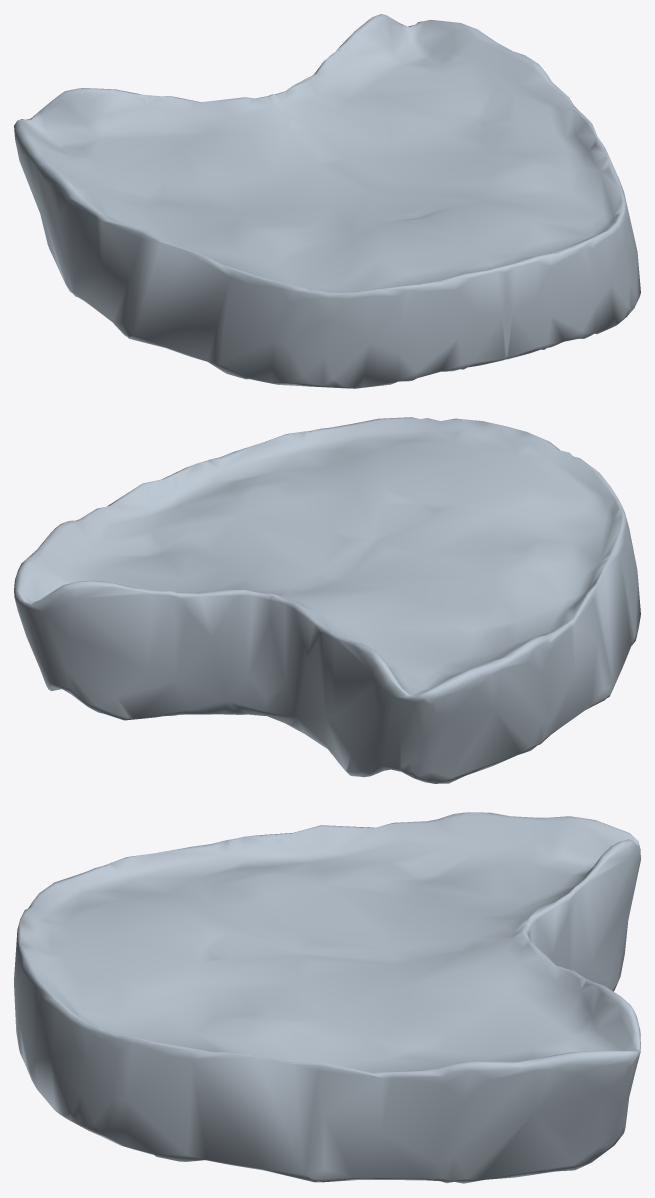
File: intervertebral-disc-t6-t7.glb
The picture shows the model from 3 angles, top to bottom: view 1: azimuth 30°, elevation 25°; view 2: azimuth 150°, elevation 25°; view 3: azimuth 270°, elevation 25°; orthographic projection. The views are drawn at different scales.
Parts seen in each view (by area): view 1: Intervertebral disc T6-T7; view 2: Intervertebral disc T6-T7; view 3: Intervertebral disc T6-T7.
Part boxes in pixels (bbox=[...]): Intervertebral disc T6-T7: bbox=[14, 14, 640, 388]; Intervertebral disc T6-T7: bbox=[14, 417, 640, 783]; Intervertebral disc T6-T7: bbox=[14, 812, 640, 1183].
Size of the model in its own units: 0.0339 by 0.00942 by 0.0351.
